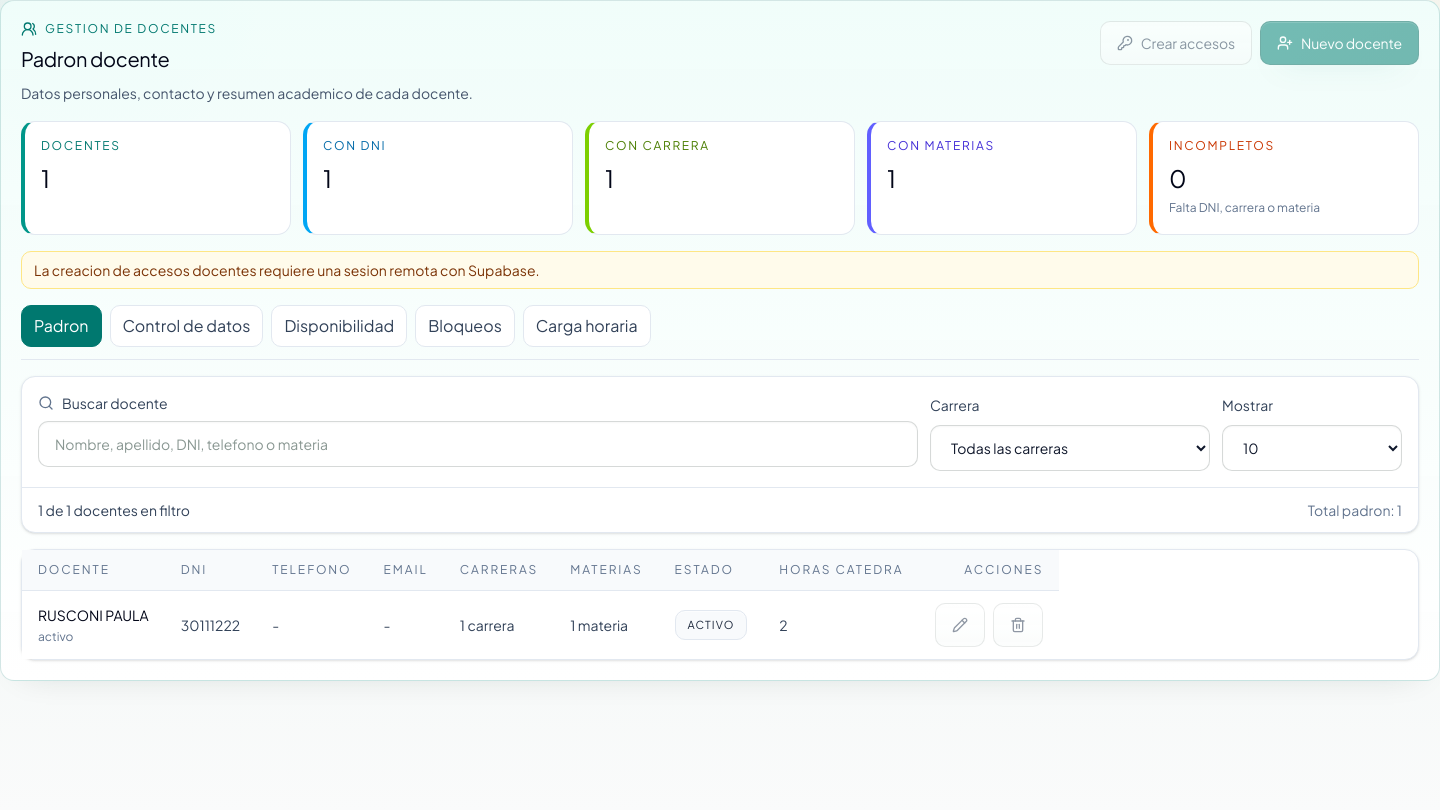
TeacherRosterSection fechas bloqueadas › desduplica materias equivalentes del horario en los contadores y la lista del modal
The image size is (1440, 810).
Click the text "RUSCONI PAULA" at (93, 615), box [38, 605, 149, 625]
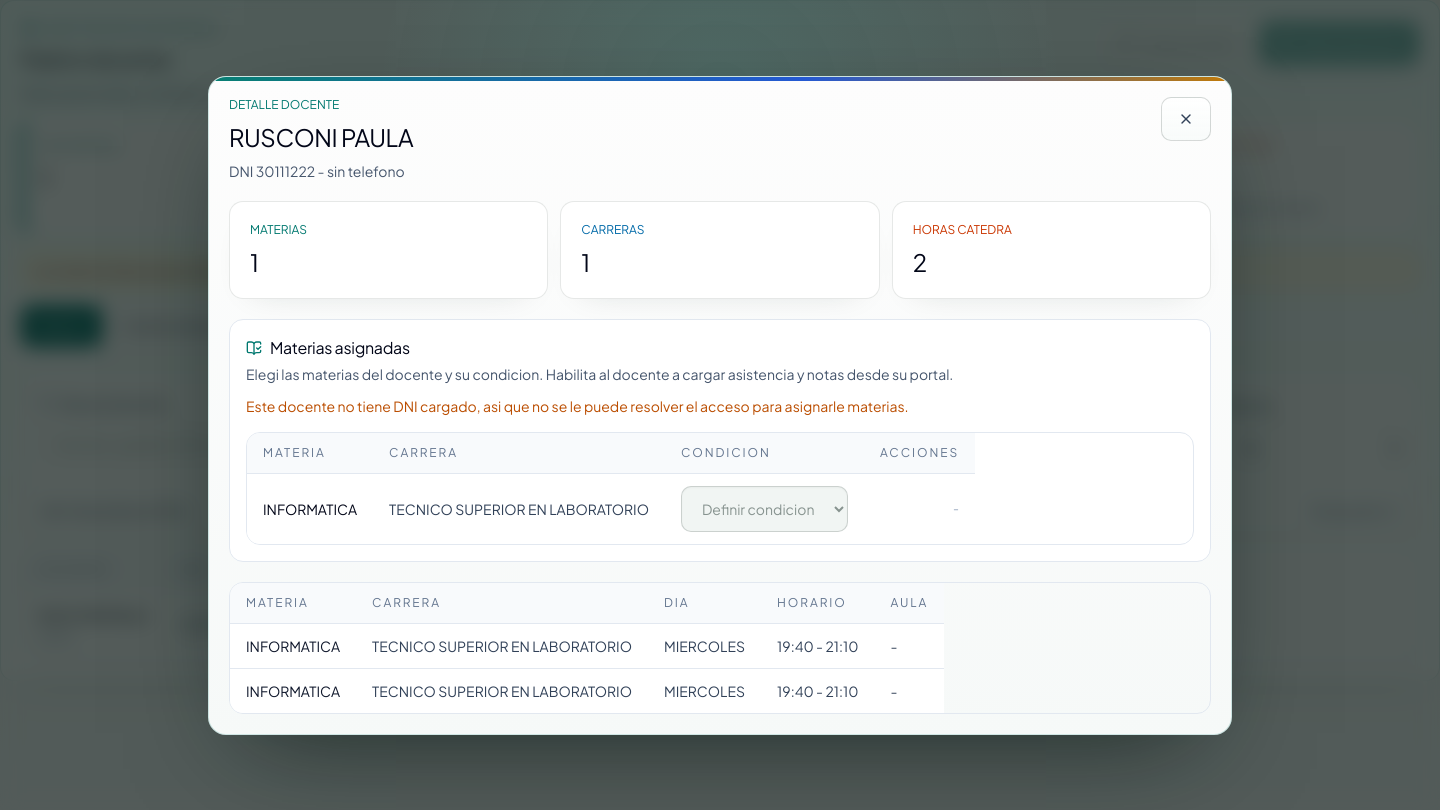
Expected: the 1st text "1" is shown, [250, 246, 259, 276]
Expected: the 2nd text "1" is shown, [581, 246, 590, 276]
Expected: the text "2" is shown, [913, 246, 927, 276]
